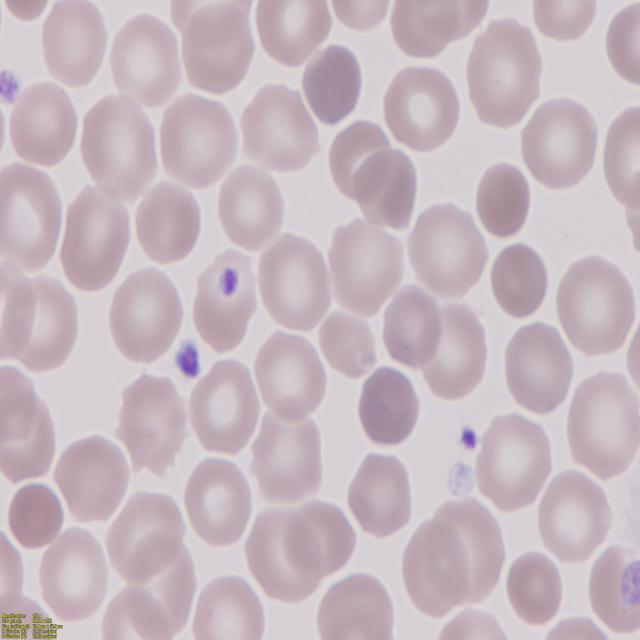RBC: (462, 14, 546, 132), (554, 252, 639, 360), (472, 408, 554, 514), (111, 373, 190, 481), (245, 503, 325, 608), (408, 204, 491, 304), (566, 366, 640, 478), (82, 95, 160, 201), (102, 484, 186, 582), (0, 273, 79, 377), (518, 94, 600, 194), (59, 181, 132, 293), (106, 263, 186, 365), (158, 92, 240, 190), (255, 232, 333, 334), (187, 356, 264, 458), (535, 468, 613, 568), (248, 407, 324, 508), (329, 217, 406, 316), (240, 82, 322, 174), (384, 63, 464, 157), (420, 302, 492, 406), (399, 516, 471, 619), (0, 162, 68, 270), (177, 4, 255, 98), (37, 523, 111, 622), (108, 10, 184, 106), (501, 321, 575, 419), (189, 252, 256, 357), (180, 456, 253, 552), (252, 332, 326, 426), (54, 434, 130, 525), (8, 77, 80, 169), (39, 0, 112, 90), (348, 446, 414, 542), (133, 178, 202, 268), (217, 167, 288, 253), (291, 494, 360, 580), (488, 239, 556, 324), (582, 538, 640, 634), (316, 574, 400, 640), (254, 0, 335, 68), (389, 0, 467, 68), (190, 575, 270, 640), (383, 282, 443, 368), (506, 548, 566, 630), (601, 95, 640, 213), (98, 580, 170, 640), (604, 0, 640, 94), (532, 0, 602, 45), (438, 607, 520, 640), (0, 529, 29, 619), (328, 0, 394, 36), (540, 614, 614, 640)
Spherocyte: (353, 359, 422, 449), (300, 39, 366, 127), (474, 160, 534, 242), (5, 478, 67, 550)
